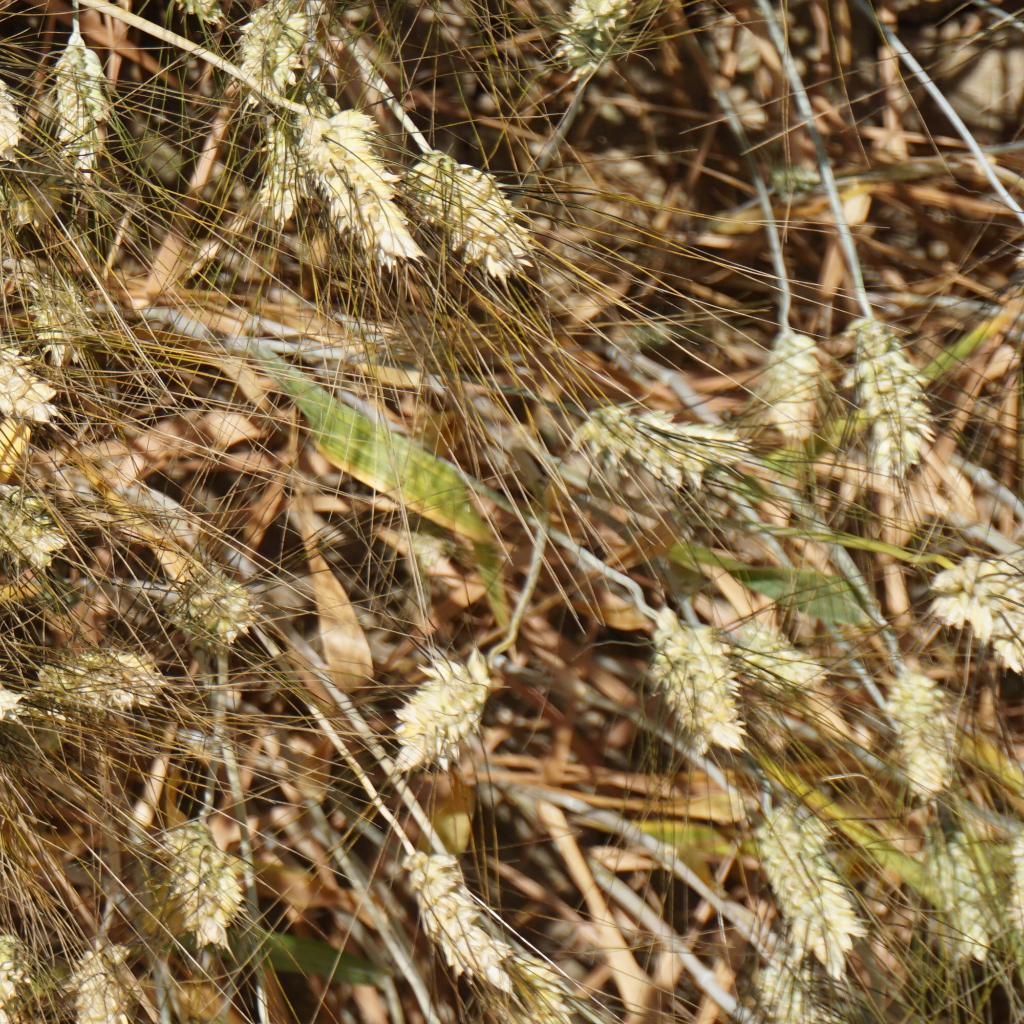0-0: (377, 837, 518, 990), (407, 135, 531, 283), (309, 106, 421, 265), (842, 303, 931, 484), (761, 803, 868, 945), (49, 23, 141, 179), (581, 393, 722, 492), (935, 533, 1024, 677), (377, 647, 492, 756), (921, 826, 1006, 972), (13, 260, 121, 366), (657, 614, 742, 748), (464, 913, 559, 1021), (157, 813, 238, 939), (47, 921, 138, 1024), (758, 318, 825, 454), (882, 671, 954, 797), (19, 646, 153, 709), (167, 561, 263, 642), (714, 608, 809, 689), (222, 0, 314, 82), (244, 112, 305, 216), (0, 476, 67, 561), (557, 0, 640, 65), (0, 303, 45, 407), (0, 919, 26, 1024), (151, 0, 226, 26)
